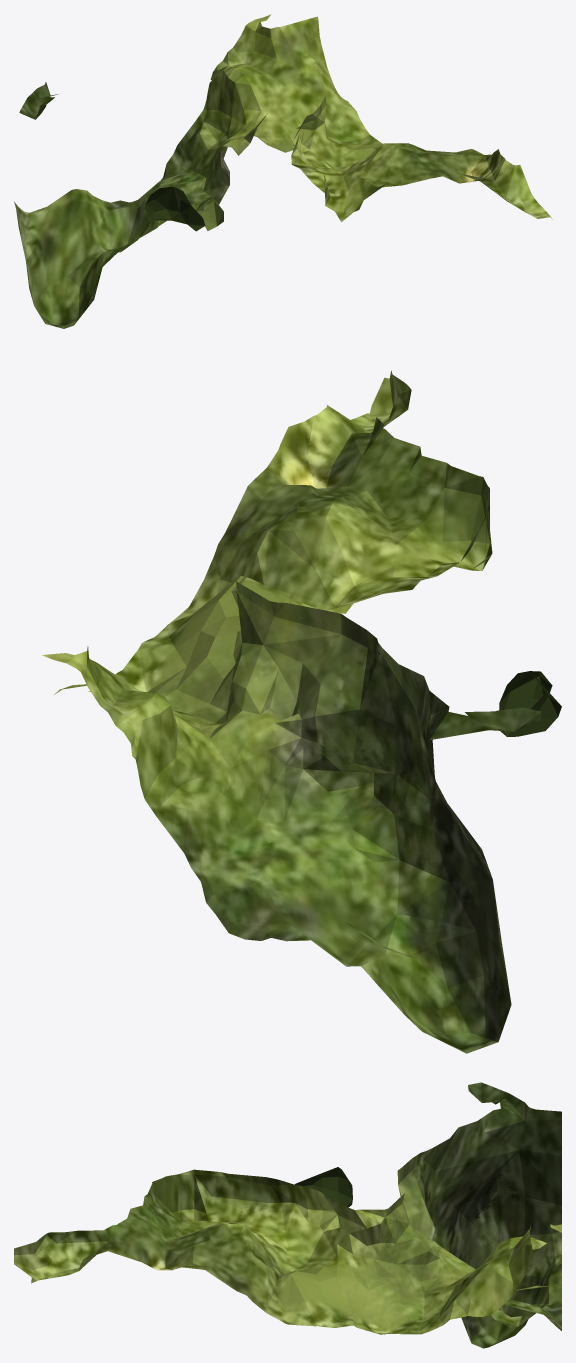
3 renders of one model, top to bottom at view 1: azimuth 30°, elevation 25°; view 2: azimuth 150°, elevation 25°; view 3: azimuth 270°, elevation 25°, orthographic. The views are drawn at different scales.
Size of the model in its own units: 2.13 by 1.42 by 2.95.
Materials: 2 (2 with a texture image).
